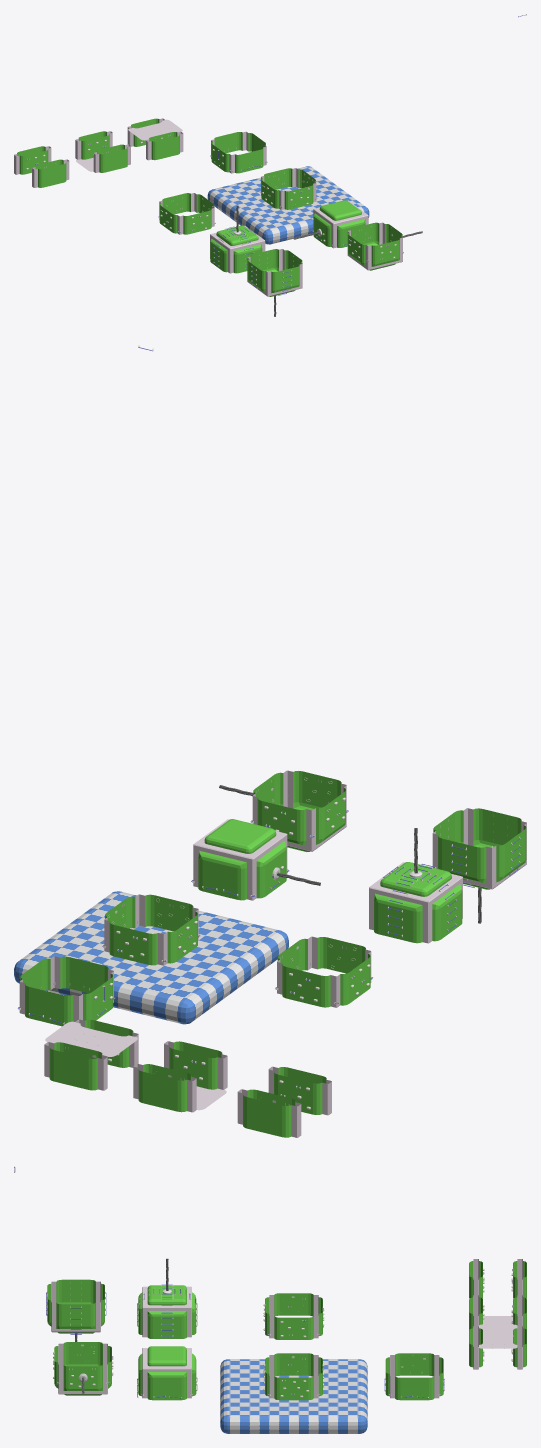
Rendered from Dora2.fbx.
The picture shows the model from 3 angles, top to bottom: view 1: azimuth 30°, elevation 25°; view 2: azimuth 150°, elevation 25°; view 3: azimuth 270°, elevation 25°; orthographic projection. The views are drawn at different scales.
Parts seen in each view (by area): view 1: platfotrma, Part-1.076, Part-1.033, Part-1.022, Part-1.001, Part-1.004, Part-1, Part-1.003, Part-1.087, Part-1.032, Part-1.077; view 2: platfotrma, Part-1.003, Part-1.022, Part-1.076, Part-1.033, Part-1.004, Part-1, Part-1.001, Part-1.087, Part-1.032, Part-1.077; view 3: platfotrma, Part-1.003, Part-1.076, Part-1.022, Part-1.033, Part-1.001, Part-1, Part-1.004, Part-1.087, Part-1.032, Part-1.077.
Part boxes in pixels (x1,y1,x2,y2): platfotrma: (207,166,369,244); Part-1.076: (247,249,302,296); Part-1.033: (347,222,402,270); Part-1.022: (210,225,265,273); Part-1.001: (211,131,266,173); Part-1.004: (159,193,214,234); Part-1: (261,168,316,209); Part-1.003: (313,200,368,248); Part-1.087: (127,118,183,160); Part-1.032: (75,131,130,172); Part-1.077: (14,146,69,187); platfotrma: (14,891,288,1024); Part-1.003: (193,819,287,900); Part-1.022: (369,862,462,943); Part-1.076: (432,808,526,889); Part-1.033: (252,770,346,851); Part-1.004: (277,936,371,1007); Part-1: (104,894,198,965); Part-1.001: (19,956,113,1026); Part-1.087: (44,1019,138,1090); Part-1.032: (133,1041,227,1112); Part-1.077: (237,1066,331,1137); platfotrma: (220,1359,367,1433); Part-1.003: (138,1346,196,1400); Part-1.076: (47,1279,104,1333); Part-1.022: (138,1285,196,1338); Part-1.033: (54,1342,111,1395); Part-1.001: (385,1353,443,1400); Part-1: (265,1353,322,1400); Part-1.004: (265,1293,322,1339); Part-1.087: (469,1324,526,1369); Part-1.032: (469,1295,526,1329); Part-1.077: (469,1259,526,1298).
Size of the model in its own units: 1712 by 1436 by 2069.
